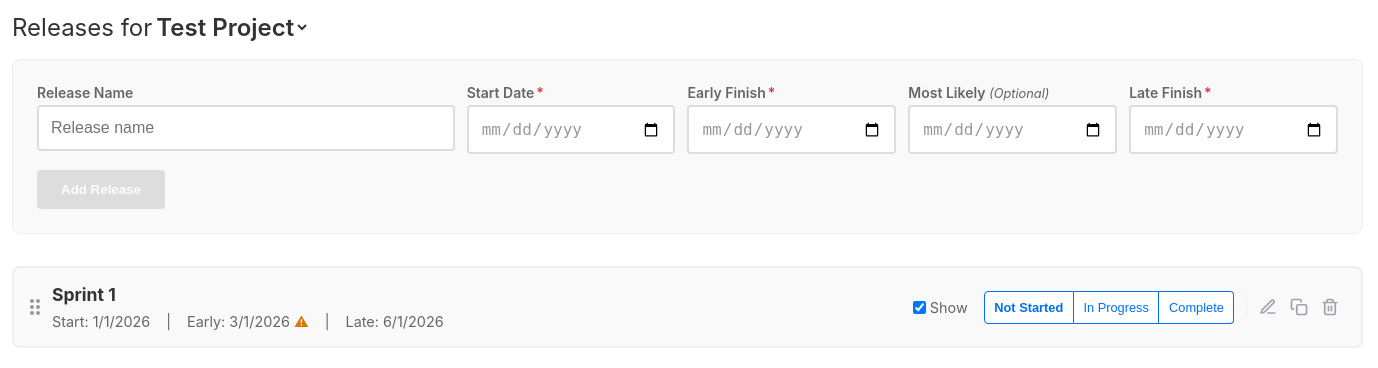
Test: ReleasesTab › edit release › cancels edit and clears form
Expected: the text "Sprint 1" is shown, [52, 284, 116, 305]
Click the button named "Edit release": (1268, 307) [1253, 292, 1283, 322]
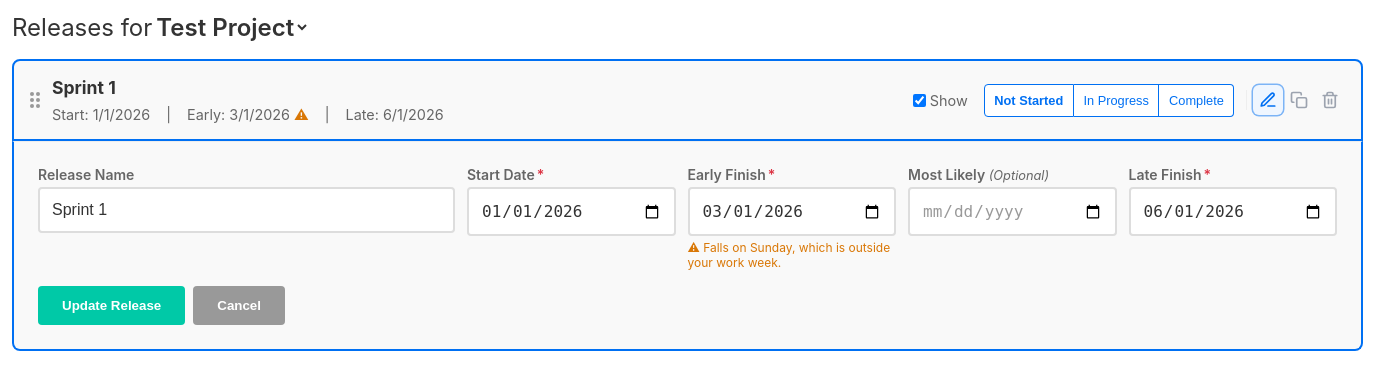
Click the button "Cancel": (239, 306) [193, 286, 285, 325]
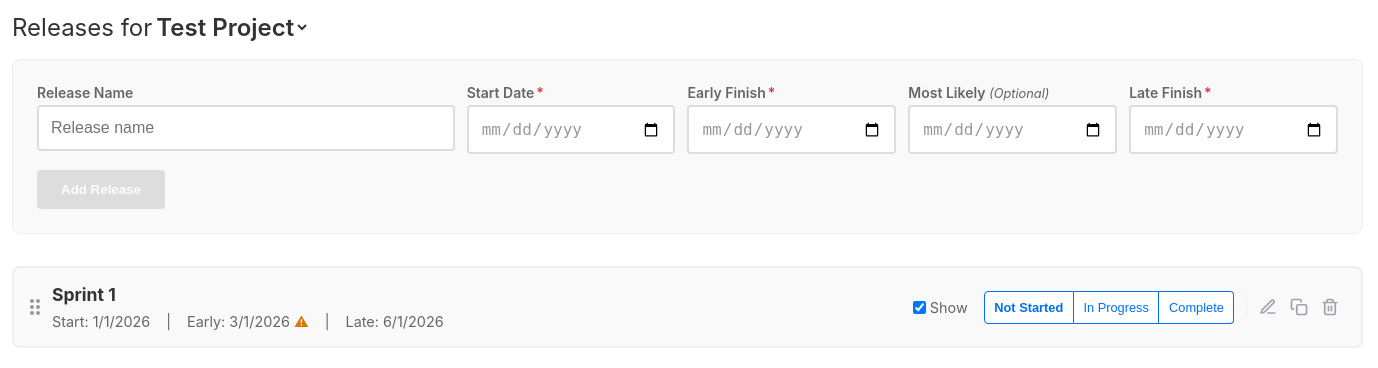
Expected: the field with placeholder "Release Name" is empty, [37, 105, 455, 151]
Expected: the button "Add Release" is shown, [37, 170, 165, 209]
